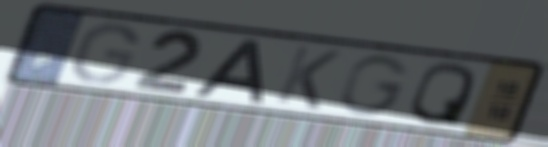2: (129, 28, 206, 98)
A: (190, 37, 266, 106)
G: (336, 53, 415, 118), (68, 22, 142, 86)
K: (270, 43, 345, 112)
Q: (405, 60, 480, 128)
